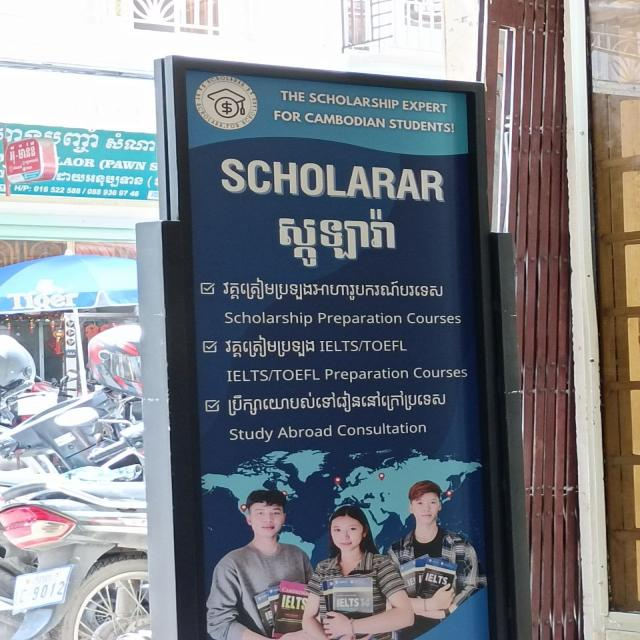Yolov11kh: (223, 388, 450, 420), (219, 274, 451, 302), (222, 334, 318, 360)
